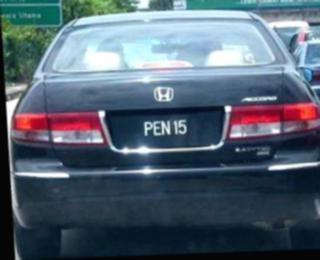License_Plate: (107, 105, 223, 149)
